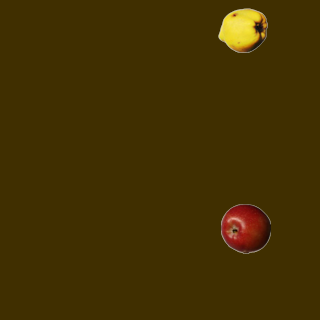Apple Braeburn: (220, 203, 270, 253)
Quince: (217, 5, 267, 55)
